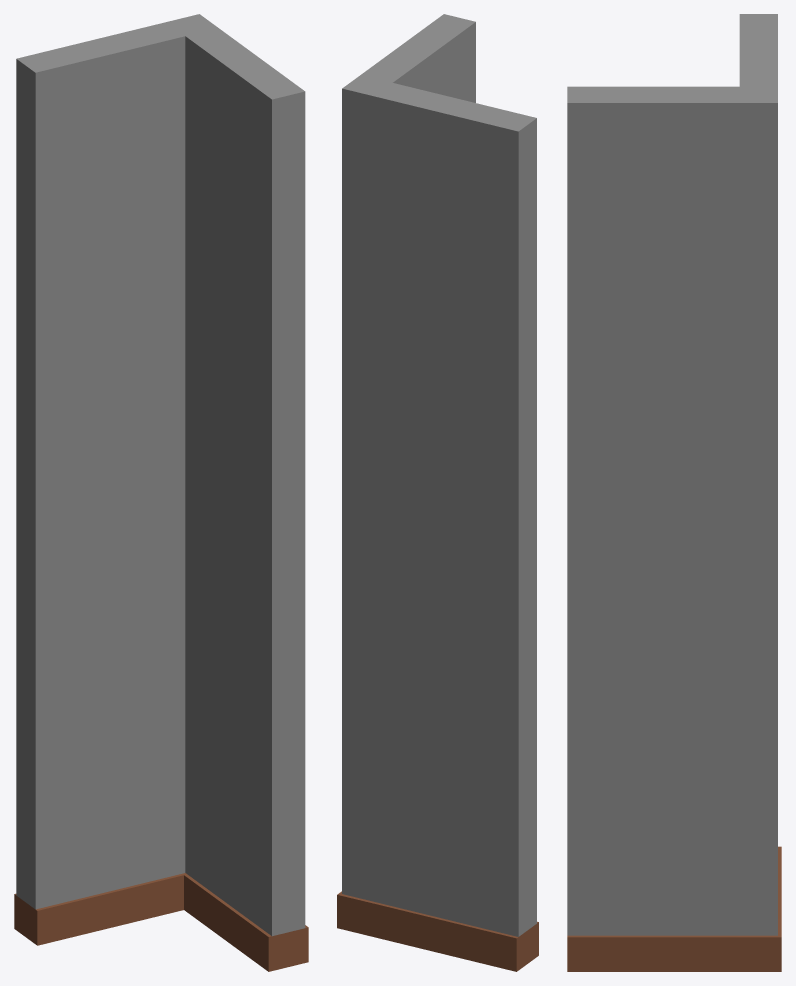
File: MurAngle01_t1.FBX
3 views of the same model, side by side, from view 1: azimuth 30°, elevation 25°; view 2: azimuth 150°, elevation 25°; view 3: azimuth 270°, elevation 25° (orthographic). The views are drawn at different scales.
Parts seen in each view (by area): view 1: mur 100; view 2: mur 100; view 3: mur 100.
Boxes of the visible parts, x1,y1,x2,y2 form: mur 100: [14, 14, 308, 971]; mur 100: [337, 14, 538, 971]; mur 100: [567, 14, 781, 971].
Bounding box in the file's own units: 56 × 250 × 56.
